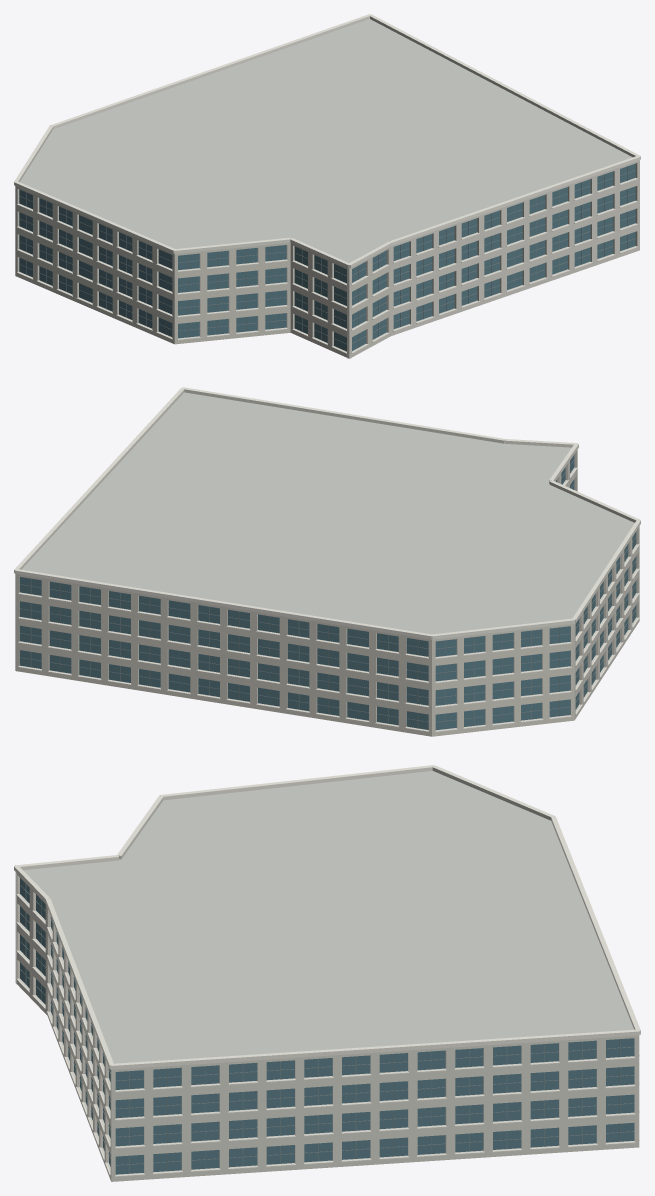
The picture shows the model from 3 angles, top to bottom: view 1: azimuth 30°, elevation 25°; view 2: azimuth 150°, elevation 25°; view 3: azimuth 270°, elevation 25°; orthographic projection. The views are drawn at different scales.
Visible parts, largest first — view 1: roof, wall, glass, trim, metal; view 2: roof, wall, glass, trim, metal; view 3: roof, wall, glass, trim, metal.
Part boxes in pixels (bbox=[...]): roof: bbox=[20, 19, 632, 262]; wall: bbox=[15, 160, 639, 358]; glass: bbox=[19, 163, 635, 351]; trim: bbox=[14, 14, 640, 353]; metal: bbox=[19, 166, 635, 348]; roof: bbox=[22, 392, 634, 634]; wall: bbox=[15, 449, 639, 736]; glass: bbox=[19, 455, 636, 730]; trim: bbox=[14, 387, 640, 732]; metal: bbox=[19, 459, 636, 728]; roof: bbox=[23, 771, 633, 1063]; wall: bbox=[15, 872, 639, 1181]; glass: bbox=[20, 878, 634, 1174]; trim: bbox=[14, 765, 640, 1176]; metal: bbox=[19, 884, 634, 1173].
Bounding box in the file's own units: 72.11 × 13.04 × 63.49.
